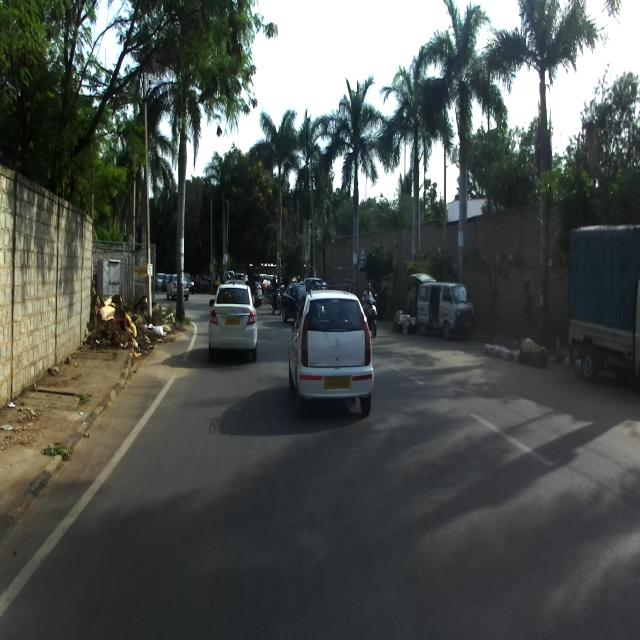car ahead at: (292, 281, 376, 423), (207, 281, 259, 356)
tree ahead at: (171, 104, 193, 334), (536, 88, 553, 338)
